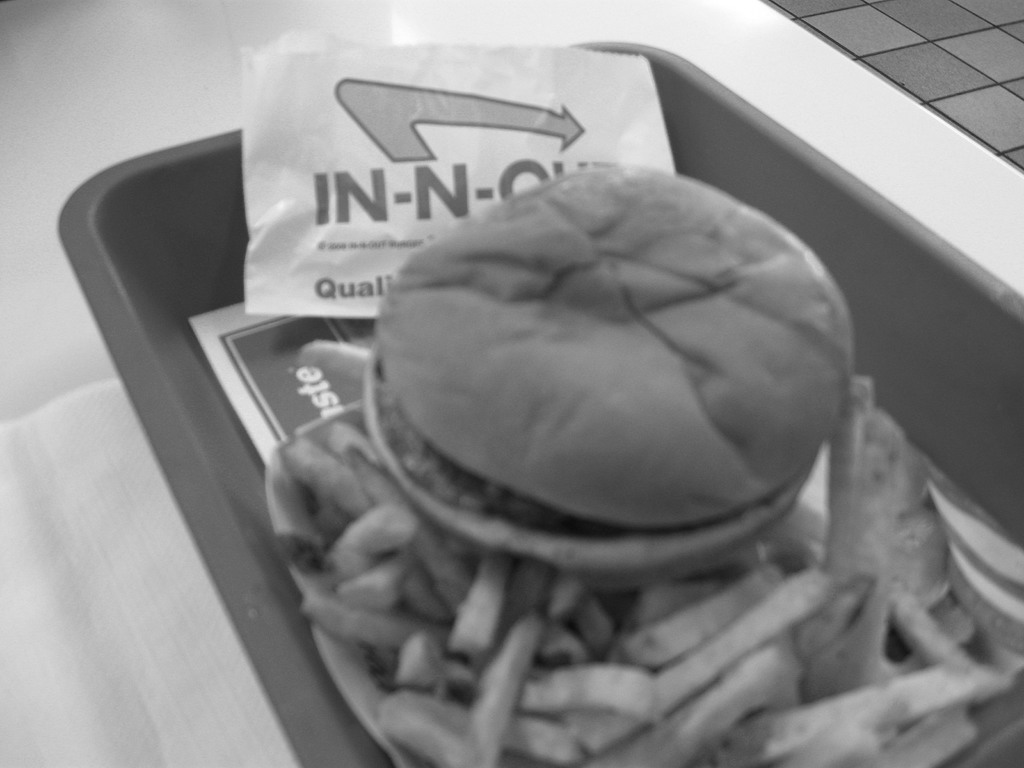French fries: (290, 357, 1023, 767)
